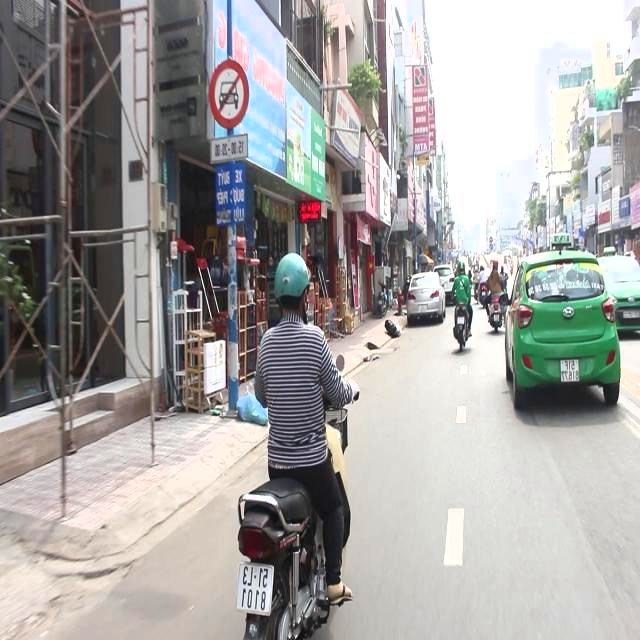P.103a: (207, 55, 251, 133)
